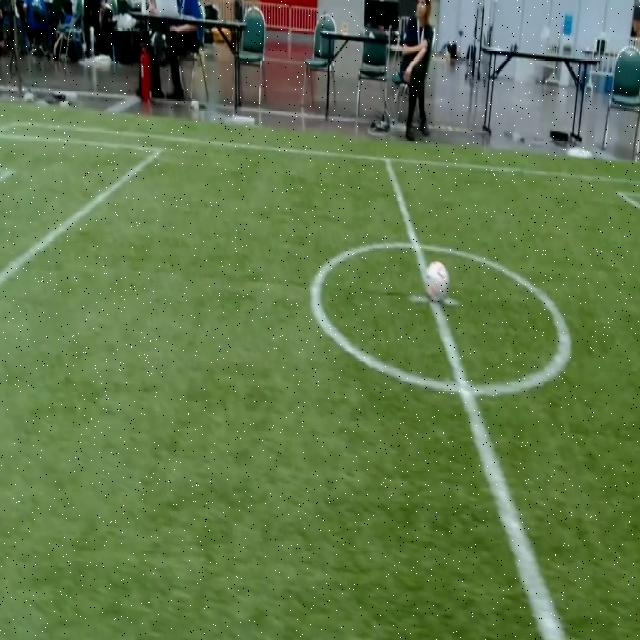ball: (424, 262, 450, 302)
